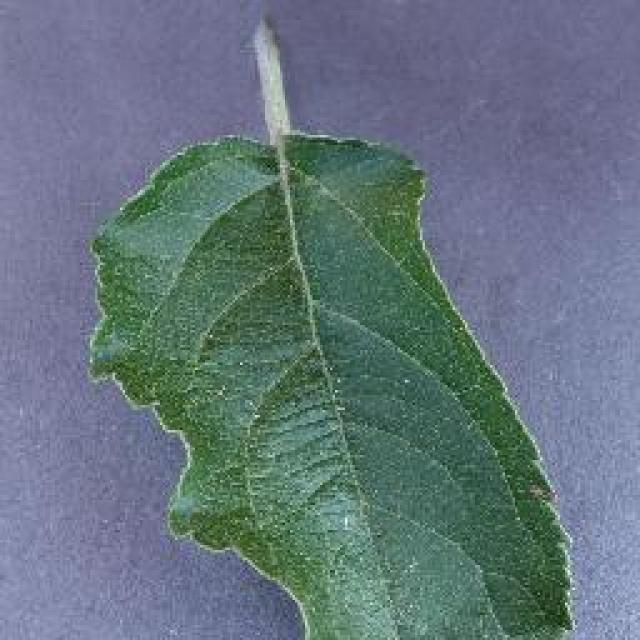apple healthy: (85, 5, 577, 637)
